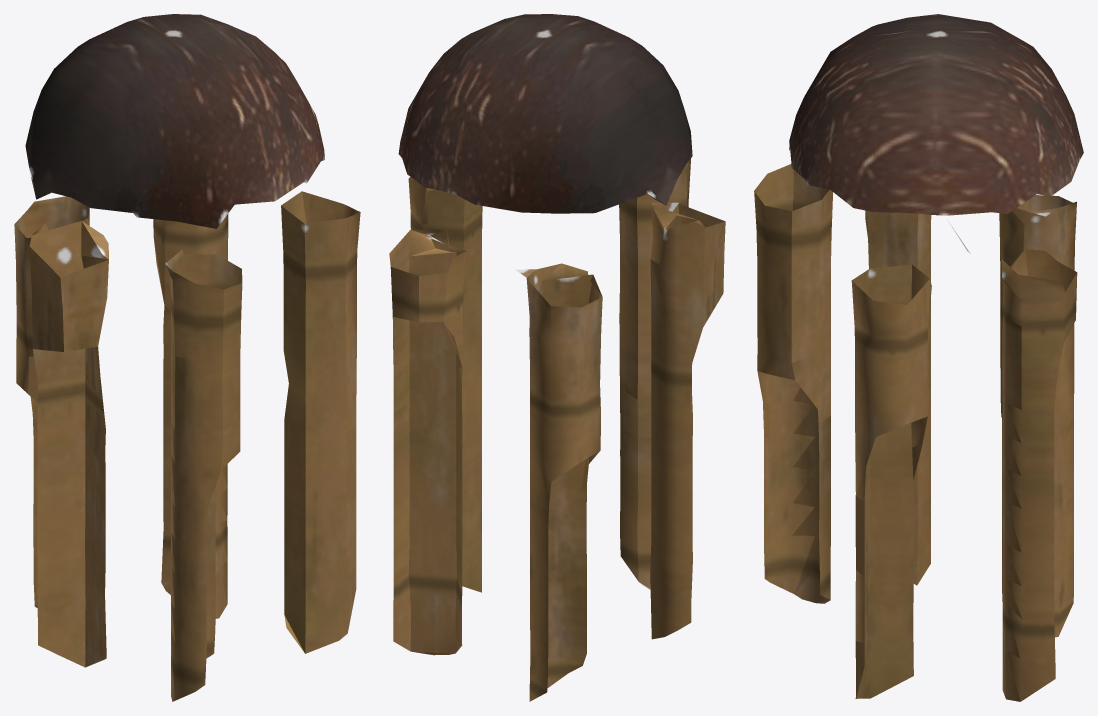
File: furin.glb
3 renders of one model, left to right at view 1: azimuth 30°, elevation 25°; view 2: azimuth 150°, elevation 25°; view 3: azimuth 270°, elevation 25°, orthographic. The views are drawn at different scales.
Parts seen in each view (by area): view 1: mesh; view 2: mesh; view 3: mesh.
Part boxes in pixels (x1,y1,x2,y2): mesh: (14,14,360,701); mesh: (389,14,725,701); mesh: (754,14,1083,701).
Size of the model in its own units: 0.1382 by 0.27 by 0.1283.
1 material, 1 textured.
